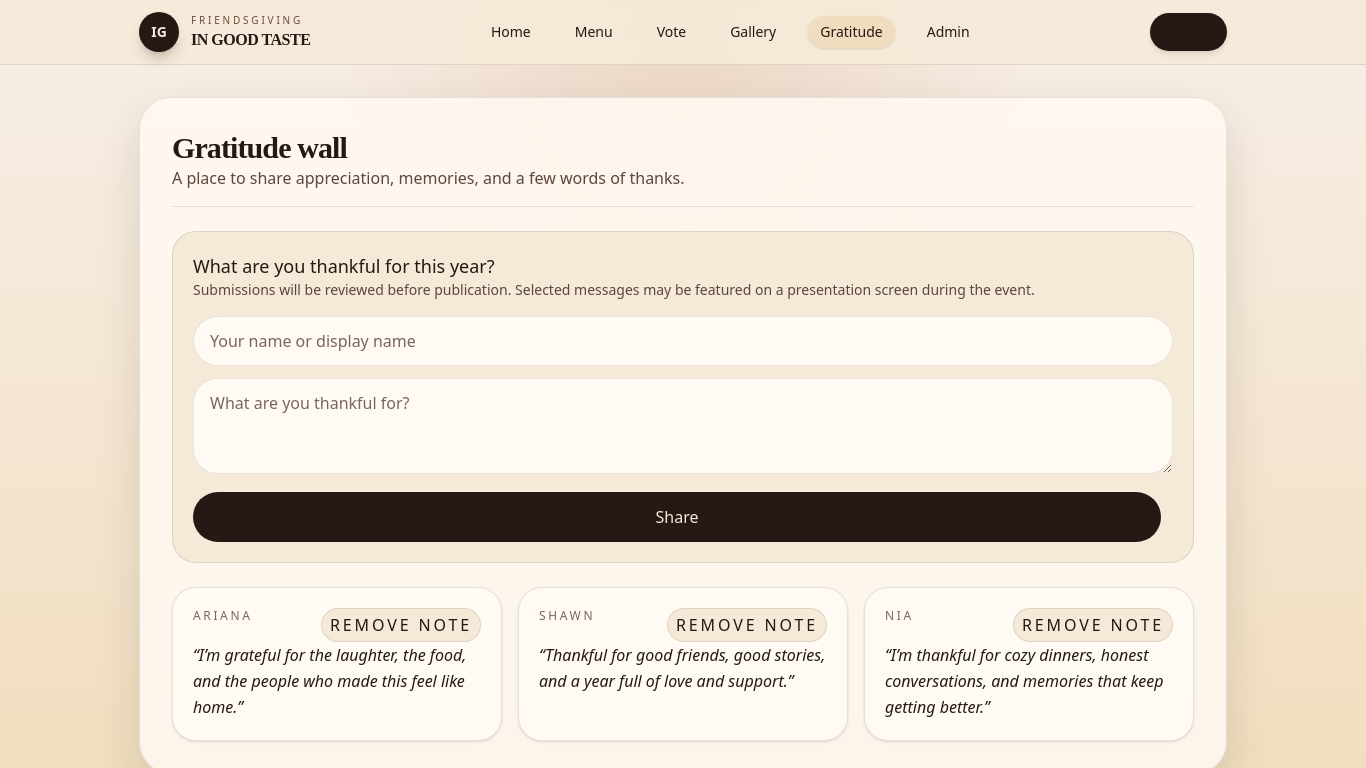
Test: Friendsgiving app › lets guests submit a gratitude message that persists locally
Type "Avery" into the field labelled "Your name or display name". click: (683, 341)
box: left=193, top=316, right=1173, bottom=366
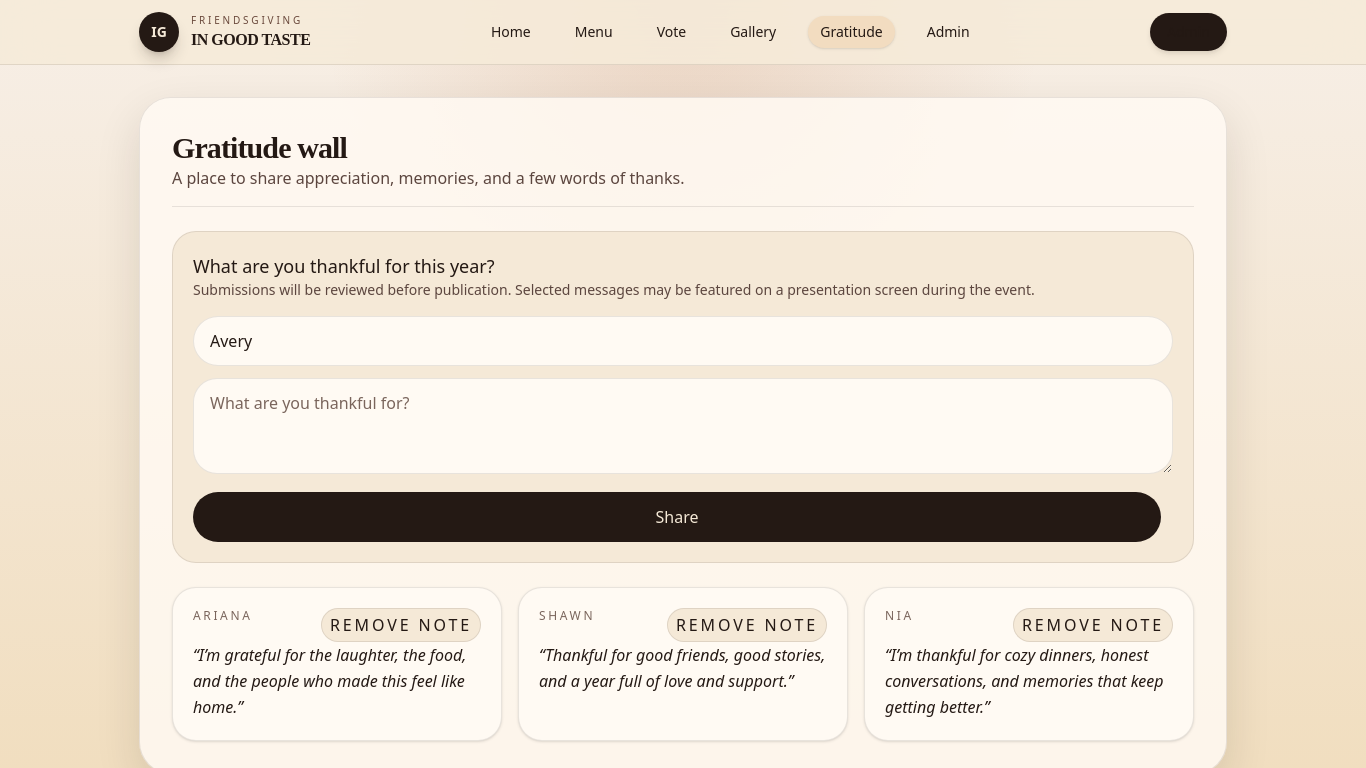
Type "Good friends and great food." into the text box labelled "What are you thankful for?". click: (683, 426)
box: left=193, top=378, right=1173, bottom=474
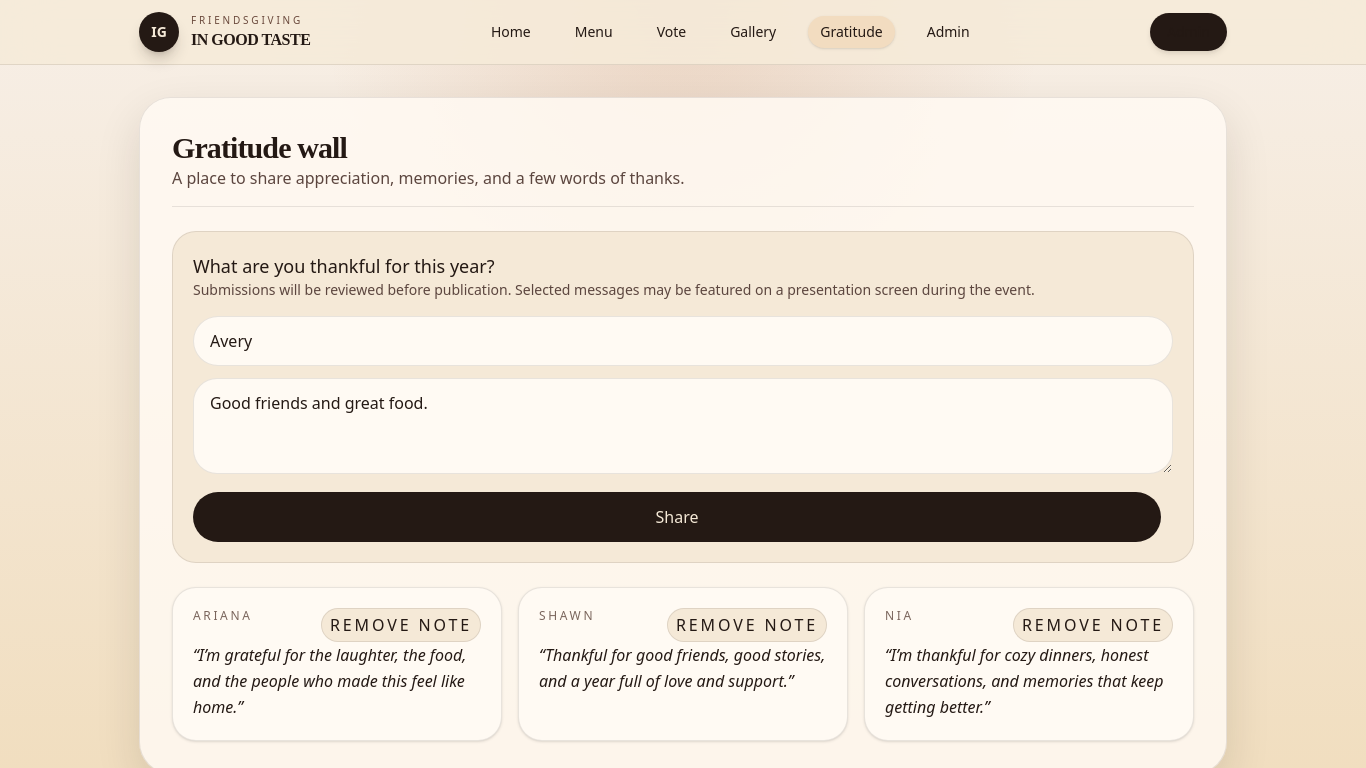
Click the button "Share". click: (677, 517)
box: left=193, top=492, right=1161, bottom=542
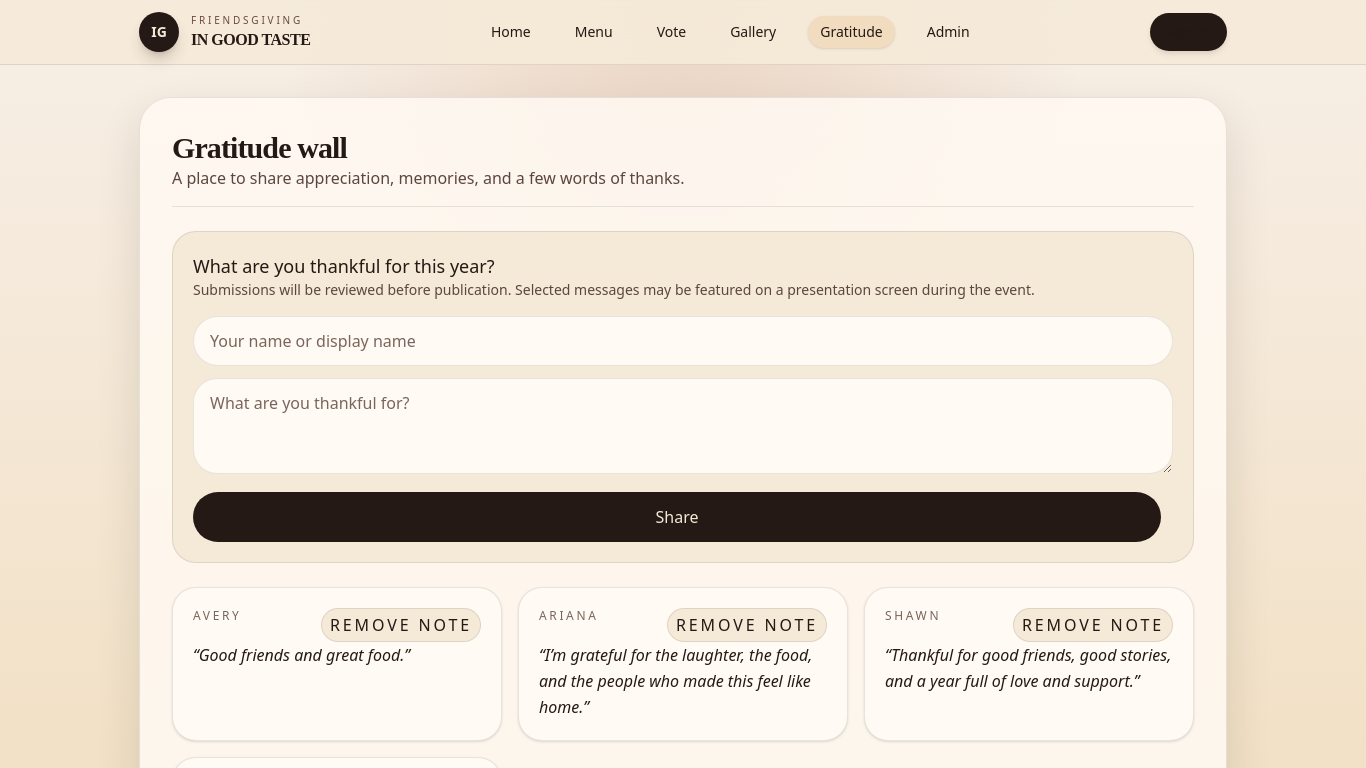
Result: the text "Avery" is shown at left=193, top=608, right=242, bottom=624
